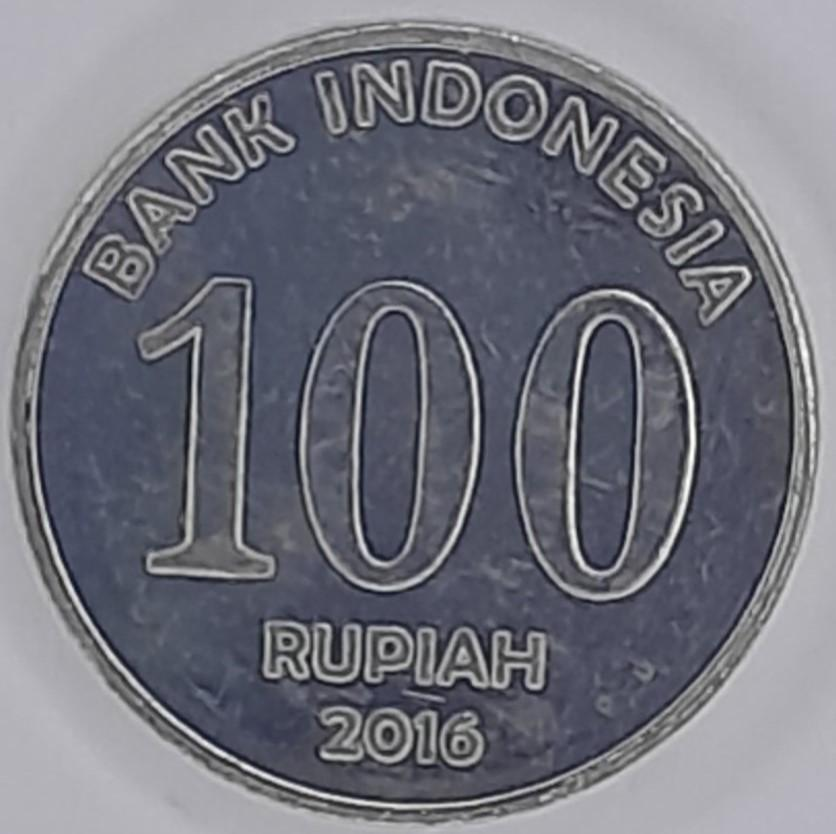coin_100_e2016: (4, 14, 824, 827)
